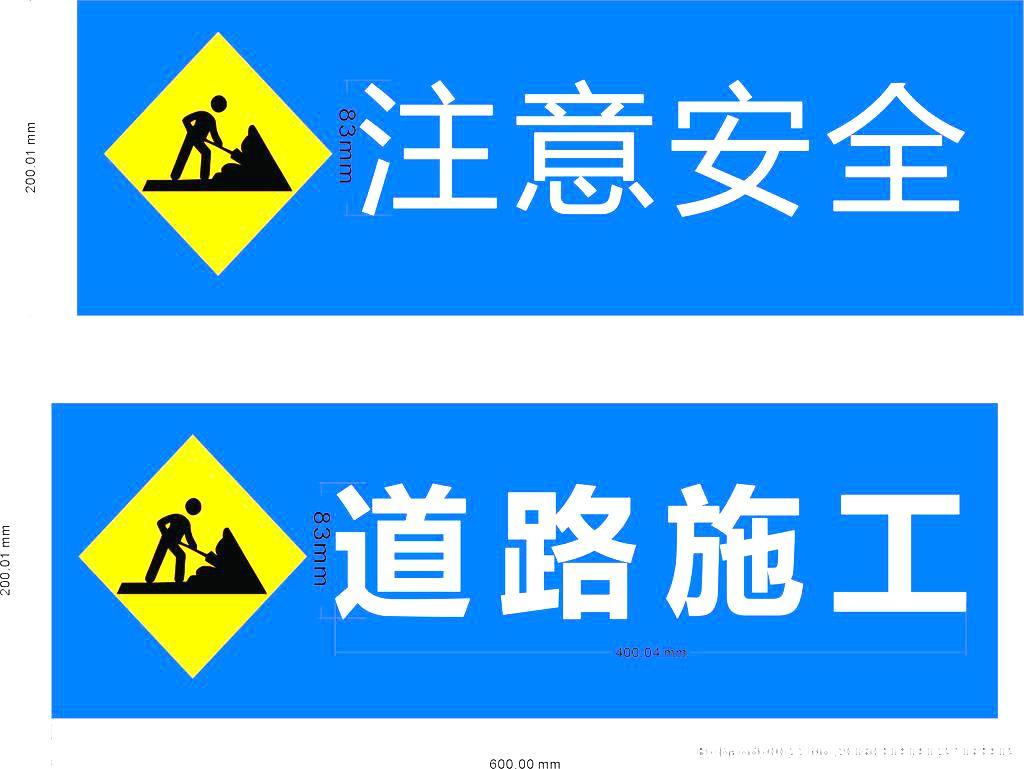sign: (76, 2, 1024, 315), (55, 405, 999, 718)
